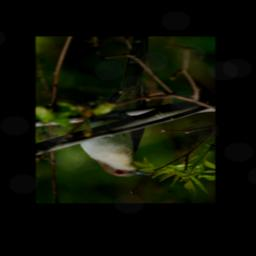Cuckoo: (77, 37, 154, 178)
